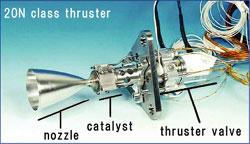thruster: (25, 68, 87, 111)
